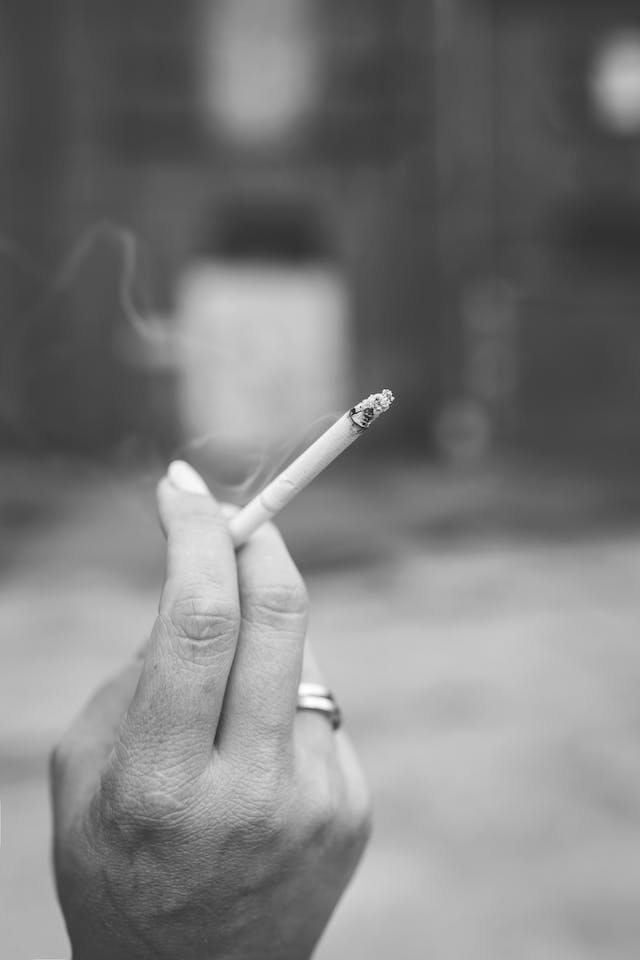Cigarette: (227, 387, 396, 549)
